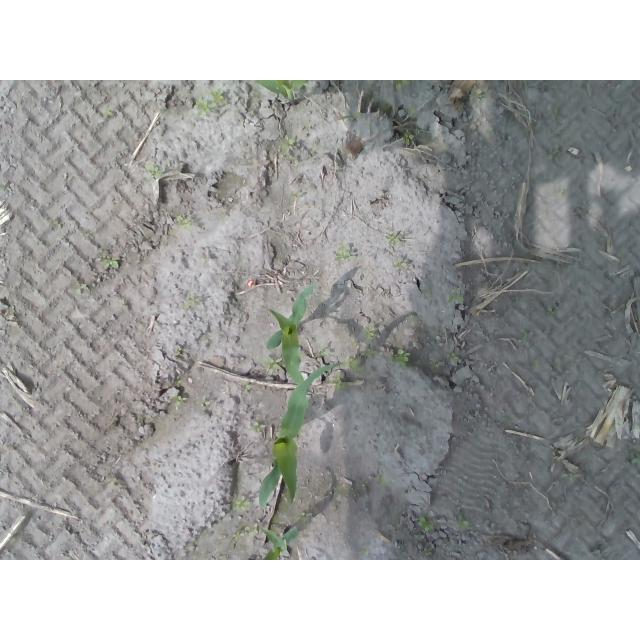Maize: (257, 361, 338, 507), (263, 283, 317, 386), (252, 80, 308, 106), (260, 524, 299, 560)
Weeds: (196, 89, 225, 112), (231, 522, 258, 542), (343, 355, 363, 373), (232, 495, 253, 512), (394, 347, 411, 365), (263, 357, 282, 371), (416, 517, 432, 532), (455, 513, 470, 529), (282, 133, 295, 151), (253, 419, 268, 433), (175, 216, 191, 229), (102, 258, 119, 270), (336, 250, 352, 262), (362, 326, 376, 339), (334, 375, 346, 390), (394, 80, 411, 90), (404, 133, 416, 146), (393, 261, 408, 271), (145, 162, 159, 172), (448, 295, 465, 303), (428, 359, 440, 370), (446, 351, 459, 361), (630, 452, 640, 465), (387, 234, 401, 243), (186, 295, 198, 305), (301, 512, 314, 521), (422, 547, 434, 556), (173, 396, 183, 406), (102, 107, 112, 117), (174, 375, 182, 385), (291, 190, 299, 200)
